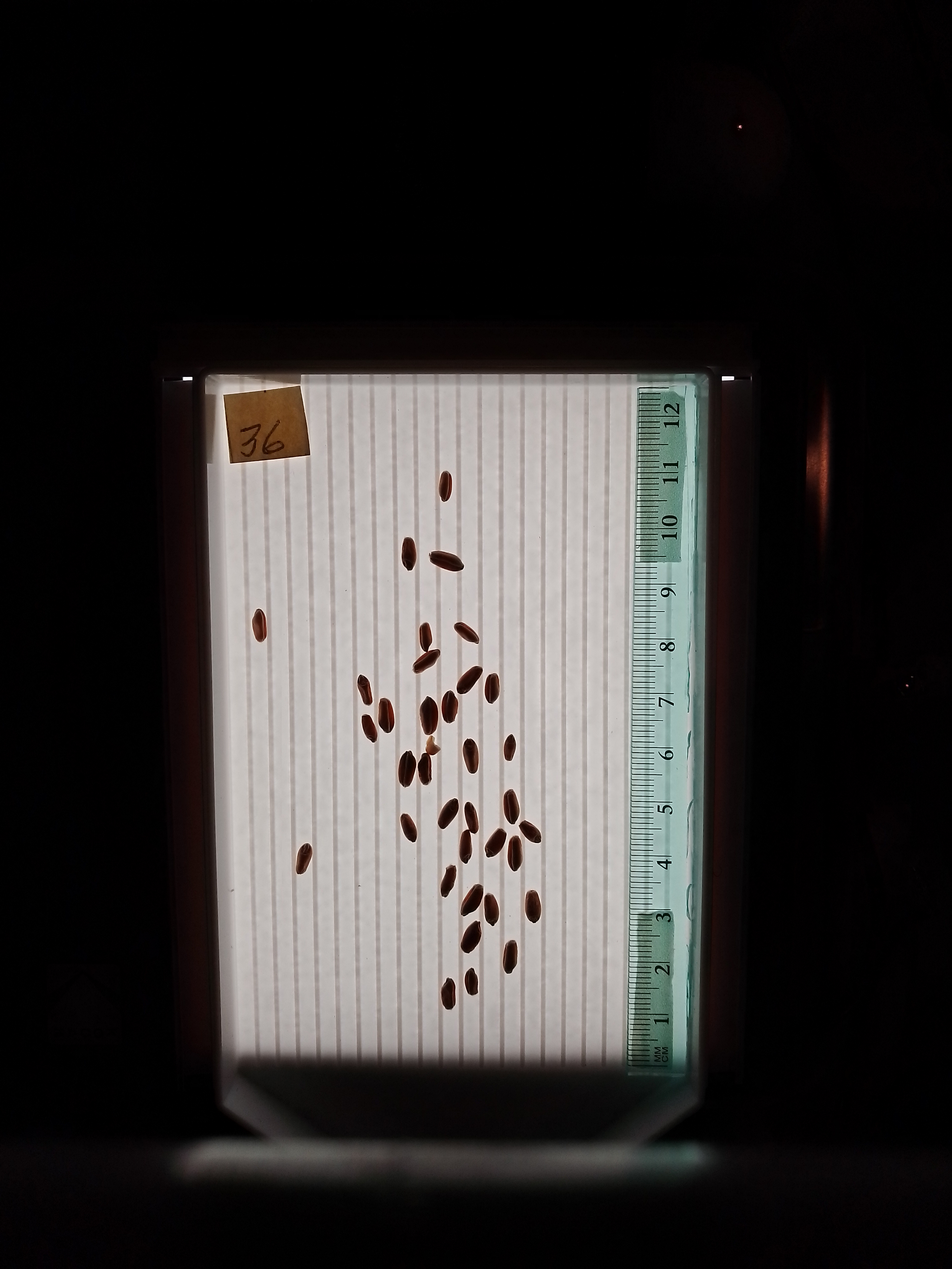seed mask: (420, 697, 439, 735), (457, 667, 482, 694), (461, 885, 483, 915), (431, 552, 463, 572), (398, 752, 416, 787), (439, 799, 459, 829), (461, 922, 481, 952), (462, 739, 479, 773), (413, 650, 438, 673), (486, 829, 506, 857), (454, 622, 479, 644), (401, 537, 417, 570), (504, 791, 520, 824), (525, 891, 542, 922), (379, 698, 394, 733), (442, 692, 458, 723), (296, 843, 312, 874), (357, 675, 373, 705), (503, 941, 518, 973), (508, 837, 522, 871), (252, 610, 267, 641), (520, 821, 541, 843), (361, 715, 378, 742), (441, 866, 456, 896), (484, 894, 499, 924), (401, 814, 417, 842), (418, 754, 432, 785), (464, 803, 478, 834), (441, 979, 455, 1009), (485, 674, 499, 703), (439, 472, 452, 501), (419, 624, 432, 651), (465, 970, 478, 995), (504, 735, 516, 760)
